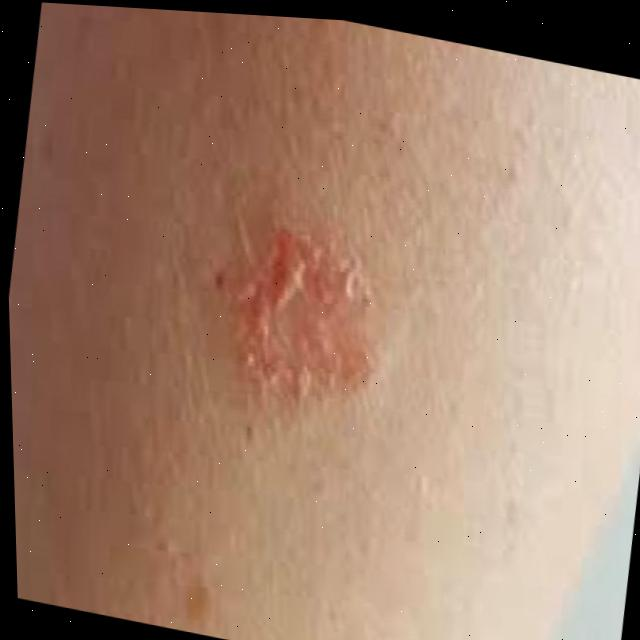Eczema: (206, 218, 382, 398)
